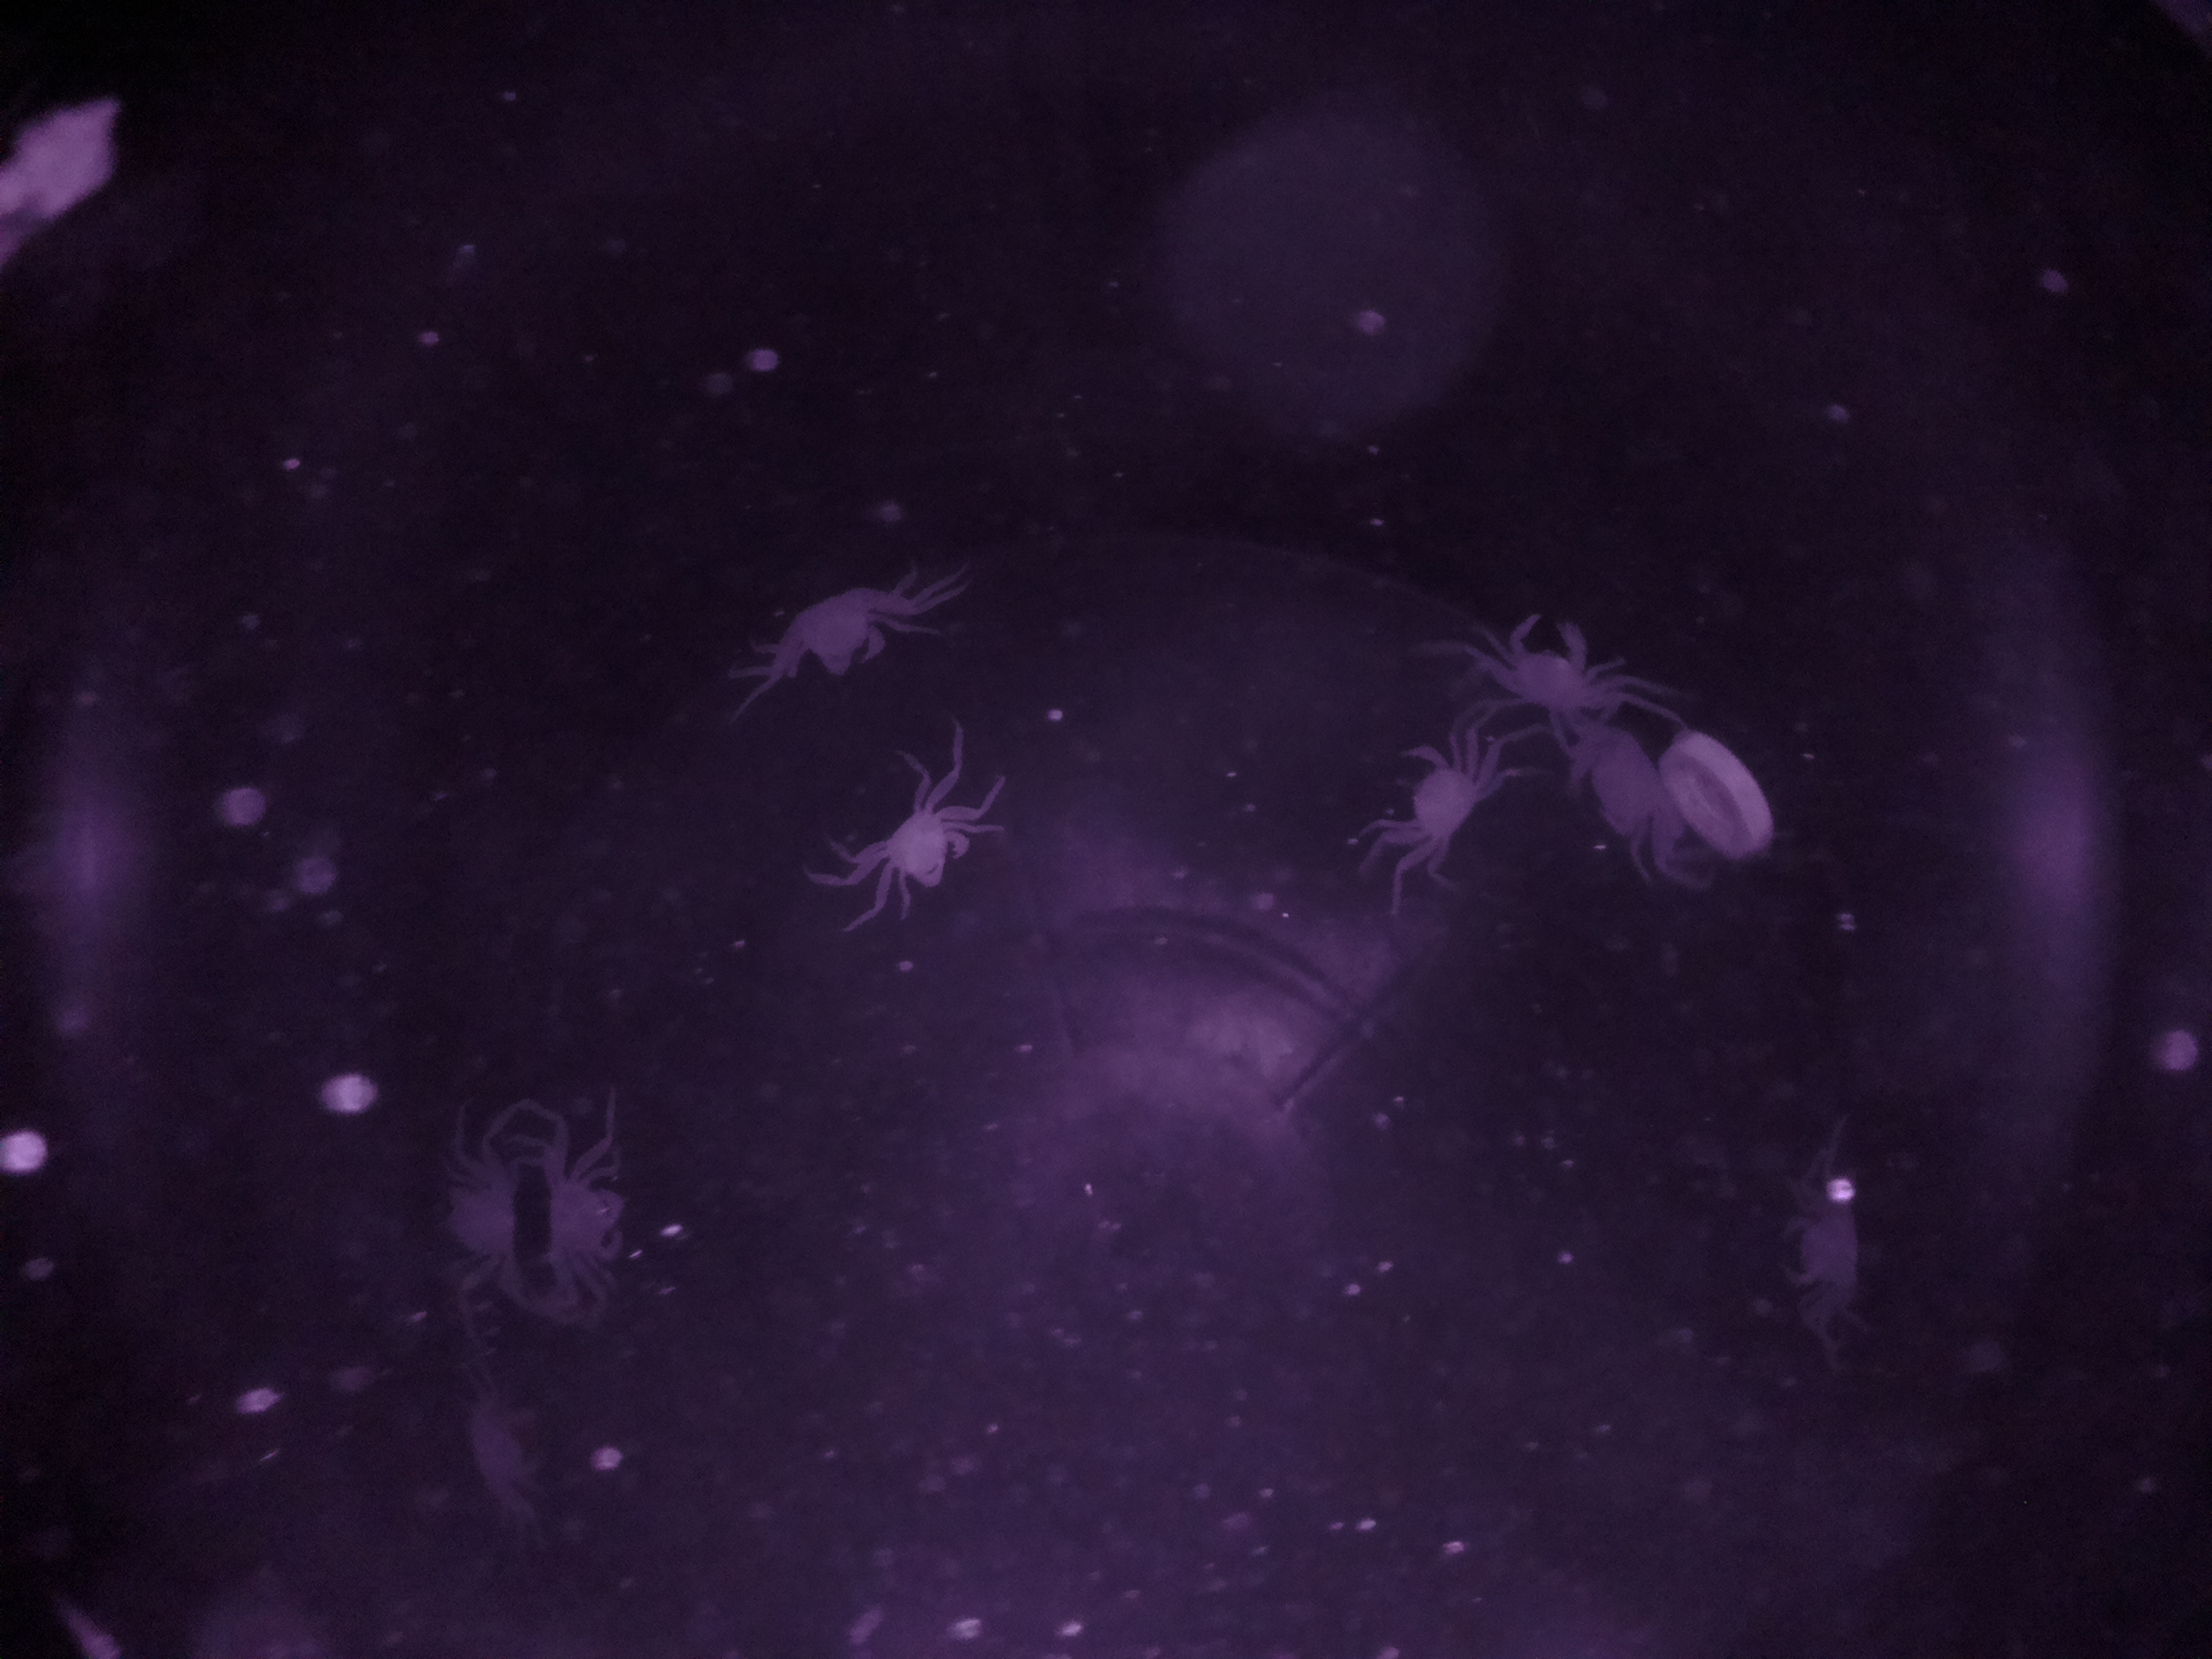Crab: (765, 538, 927, 721), (822, 755, 996, 924), (523, 1122, 653, 1321), (1362, 718, 1512, 889), (1484, 577, 1625, 746)
